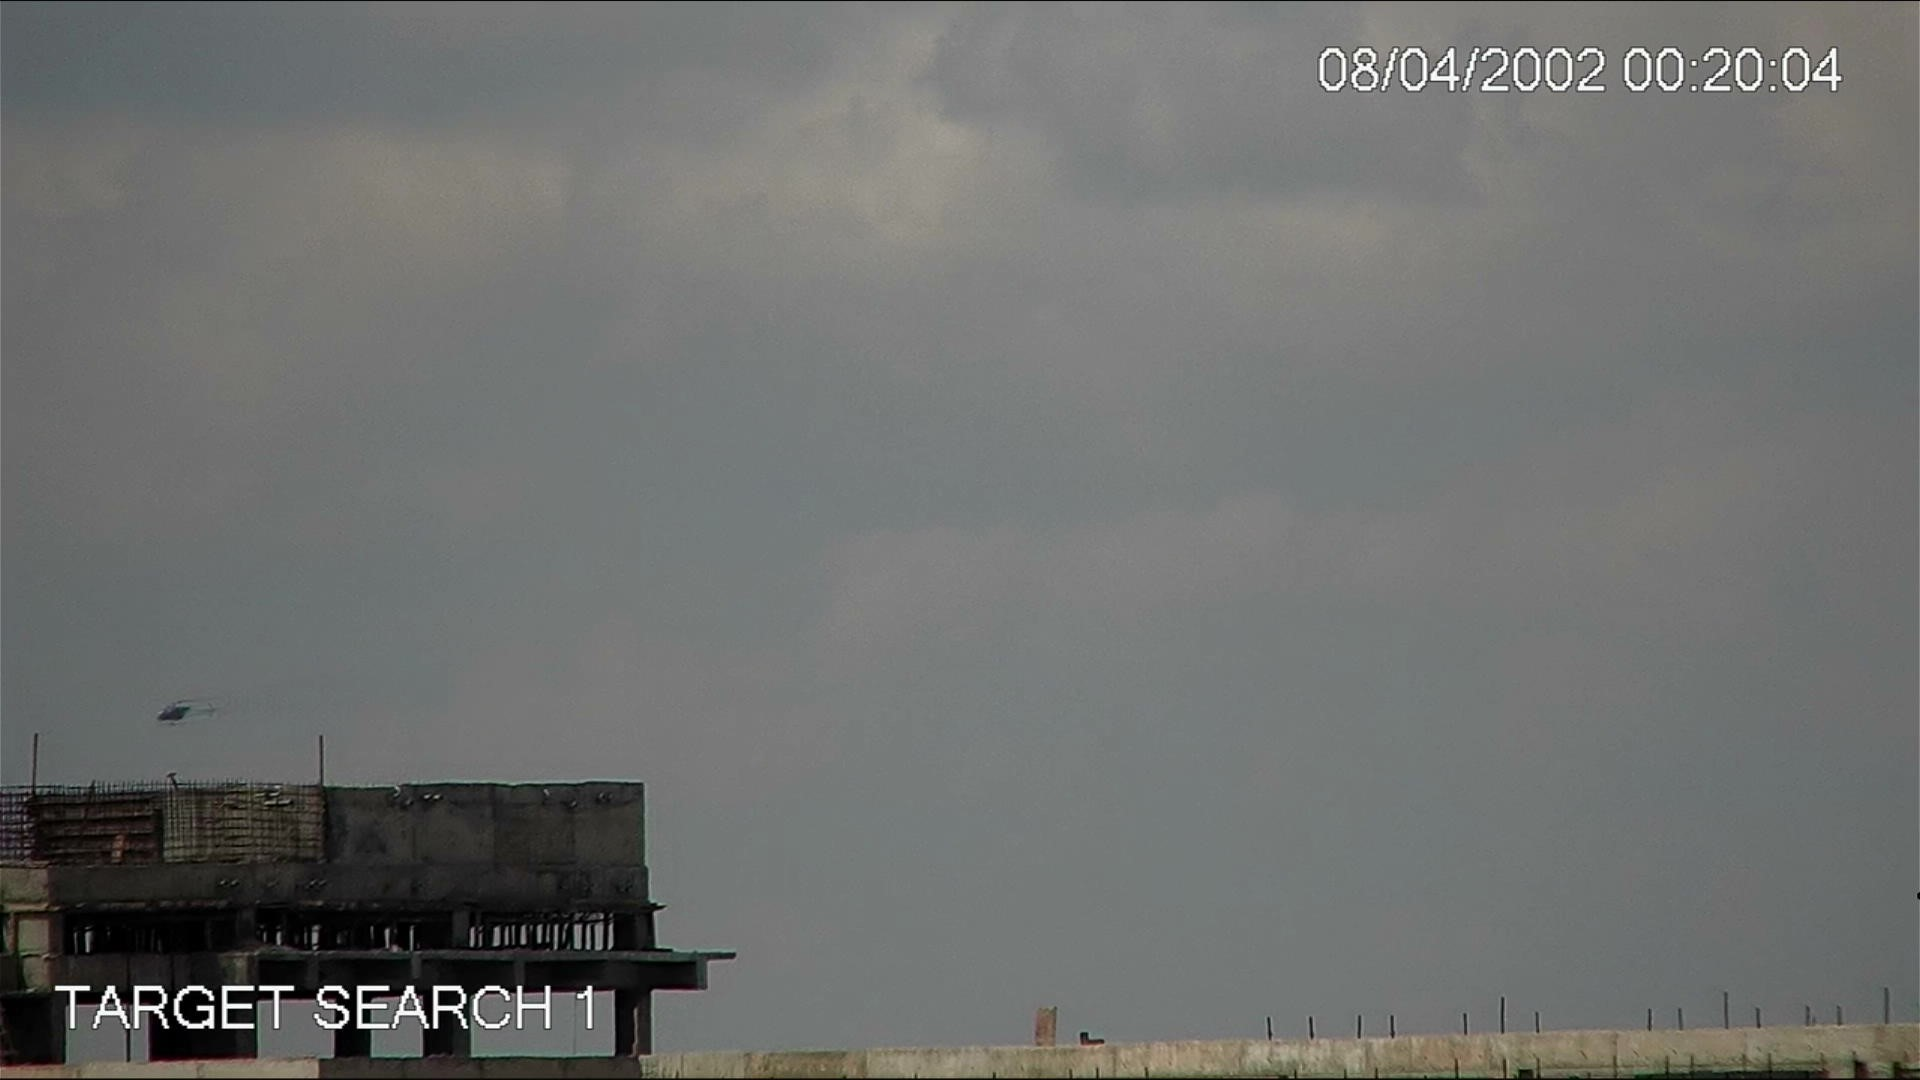SU_30: (153, 694, 224, 735)
